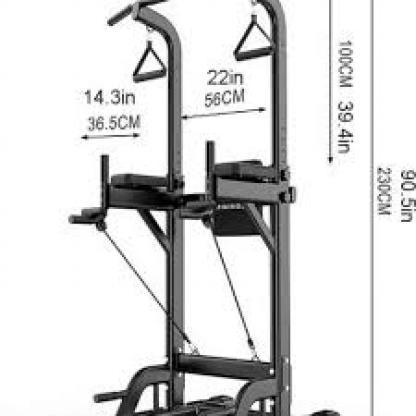chinning dipping: (67, 1, 299, 416)
